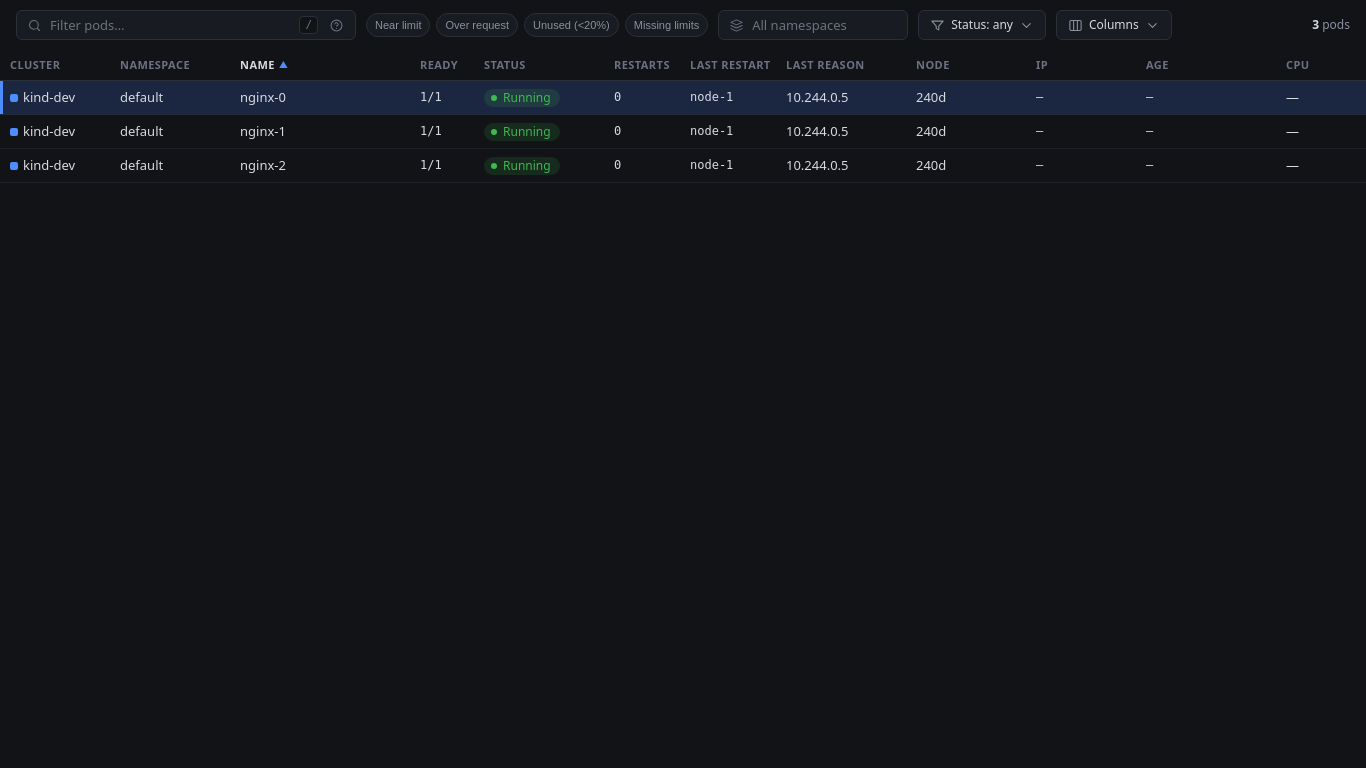
Test case: R-07 ActionConfirmDialog mounted in PodTable and the palette › table keys are blocked while the dialog is open; Escape closes it and restores focus
Expected: the text "nginx-2" is shown, top-left (240, 156), bottom-right (286, 174)
Click the text "nginx-0" at (683, 98), box top-left (0, 81), bottom-right (1365, 115)
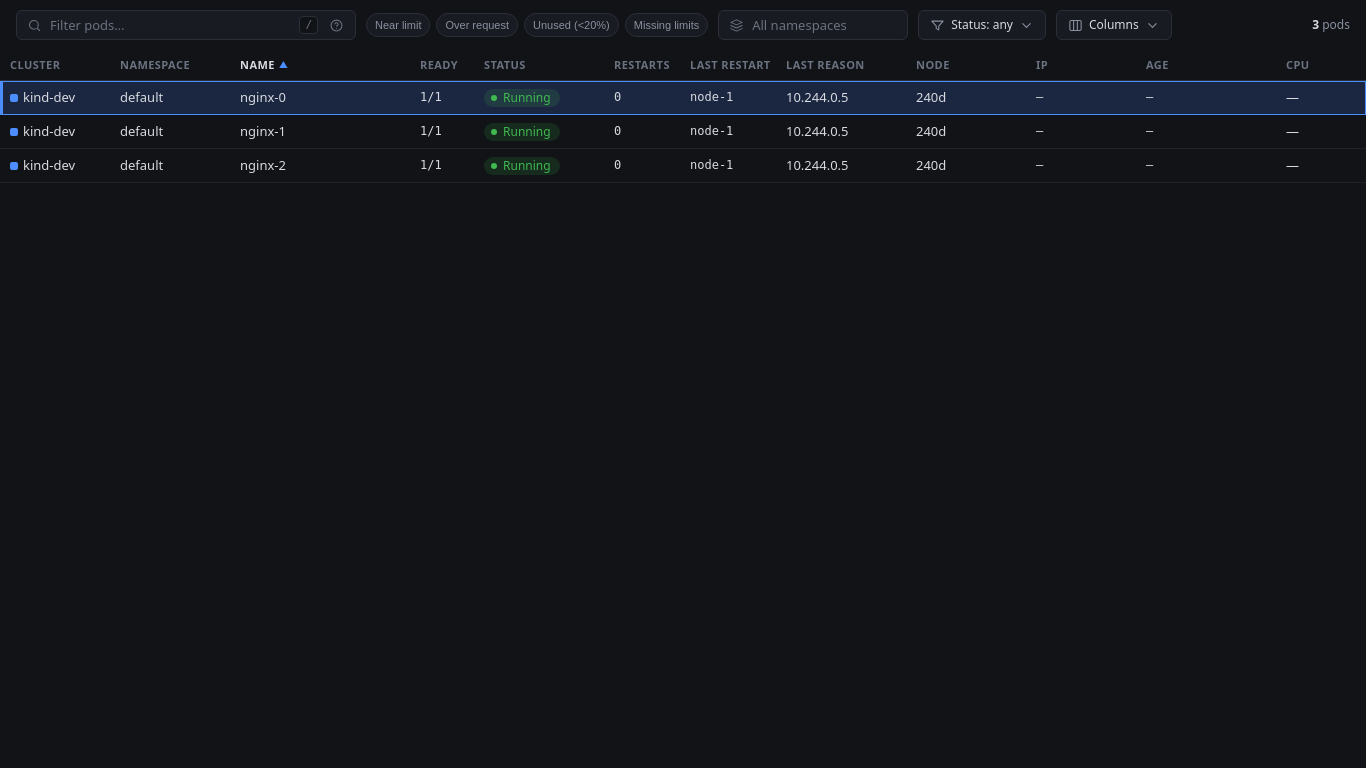
Type keys "{Control>}d{/Control}"
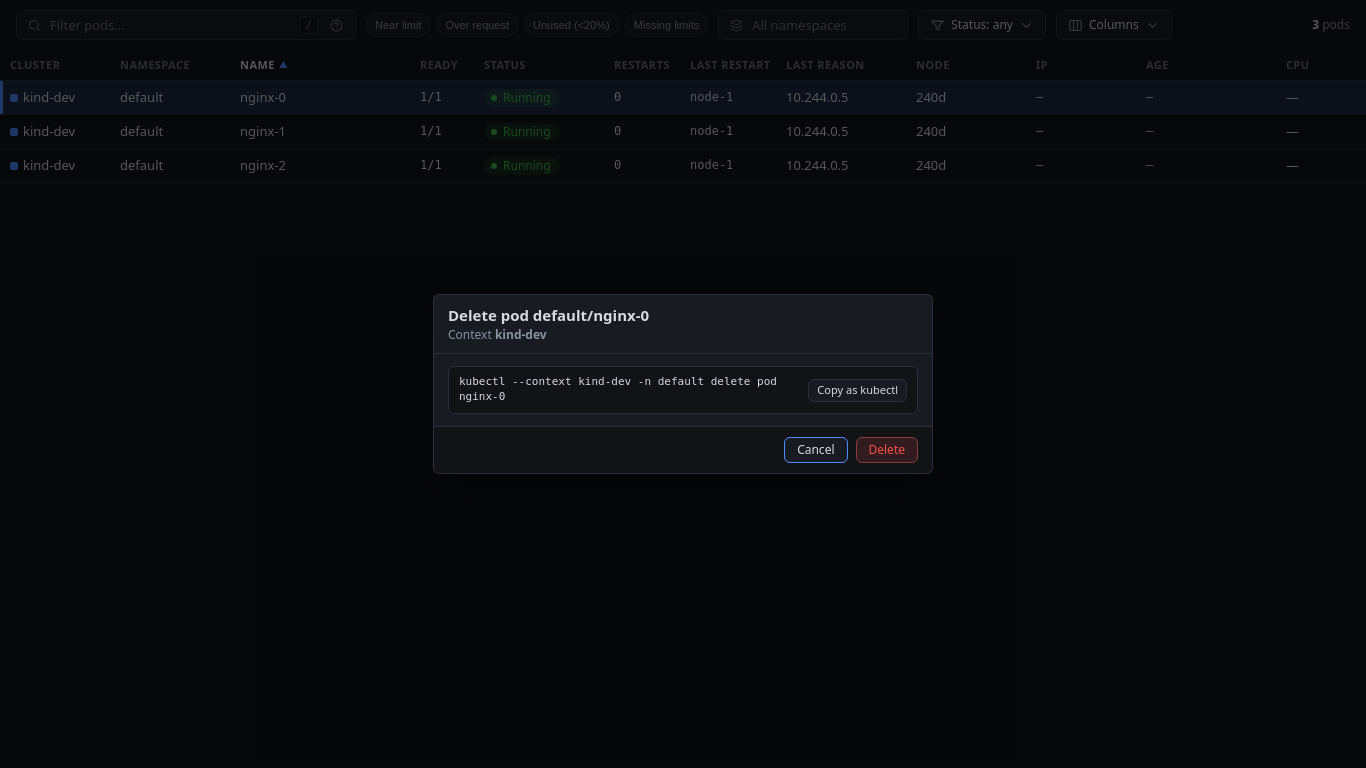
Note: j inside the dialog and on the body does not move the selection.
Press j in the dialog, box top-left (433, 294), bottom-right (933, 474)
Press j
Press Escape
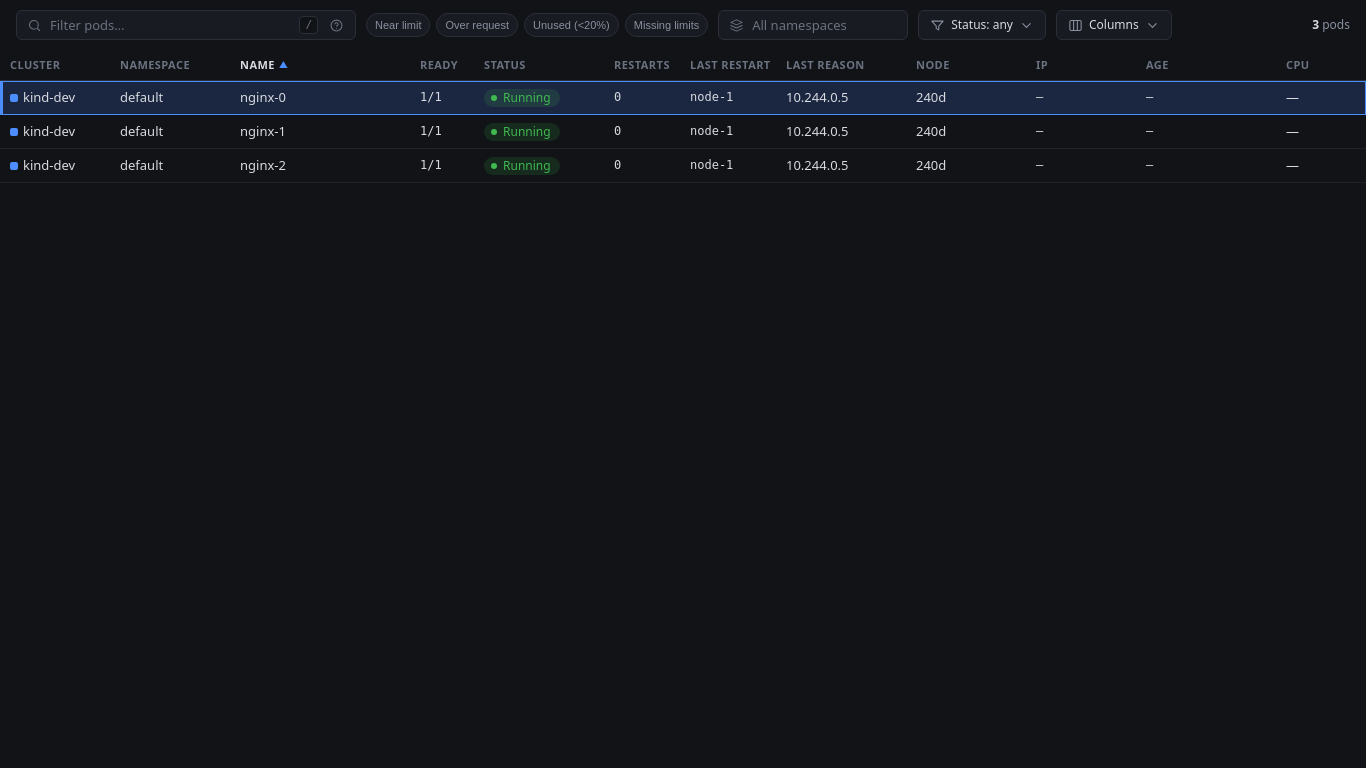
Expected: the dialog is gone
